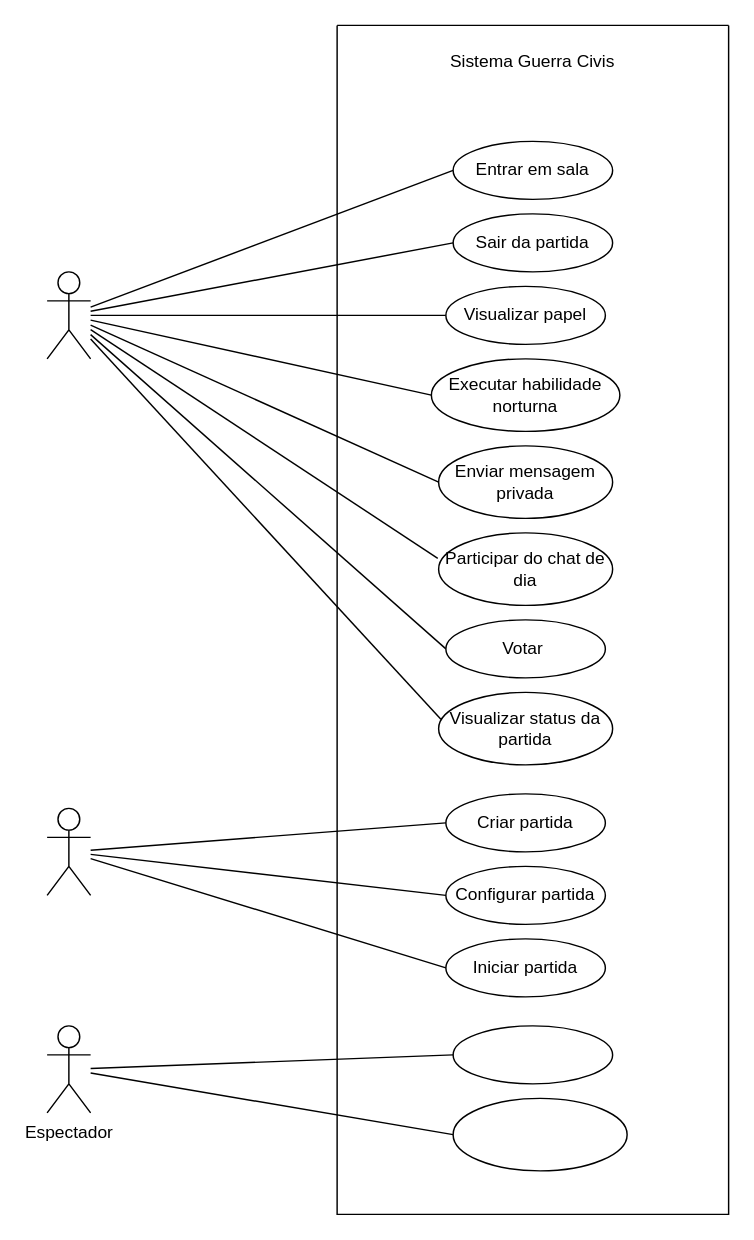
Image size: 754x1240. Some labels were removed from this diagram. The shapes that lost their labels are listed below. From the top down, each one's centre as x and y in pixels, then its label:
At point (68, 314): "Jogador".
At point (68, 851): "Host".
At point (532, 1054): "Observar partida".
At point (539, 1134): "Conversar no chat de espectadores".
